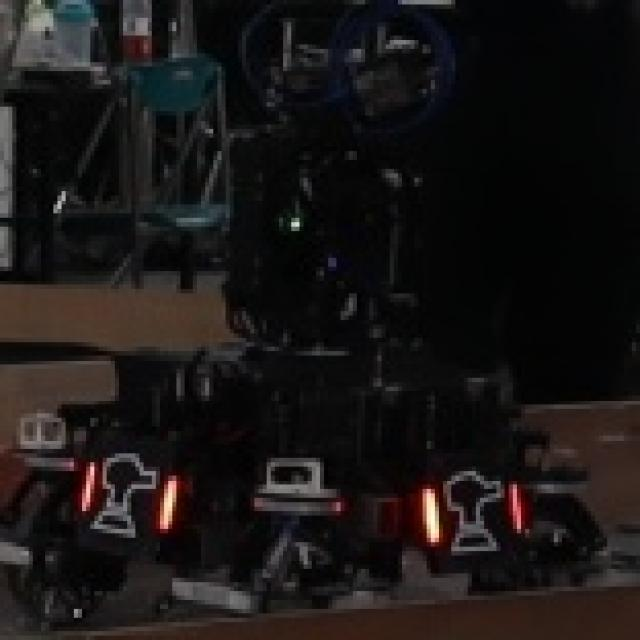Rs: (418, 458, 530, 564), (78, 449, 180, 538)
